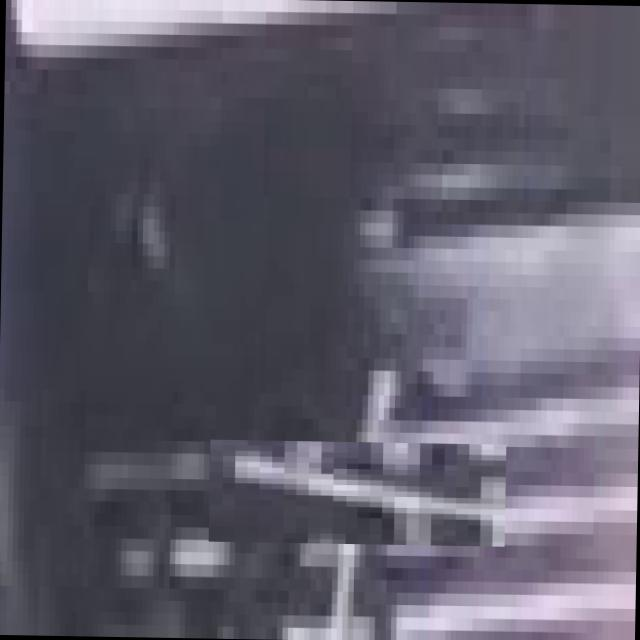stick: (256, 391, 459, 594)
